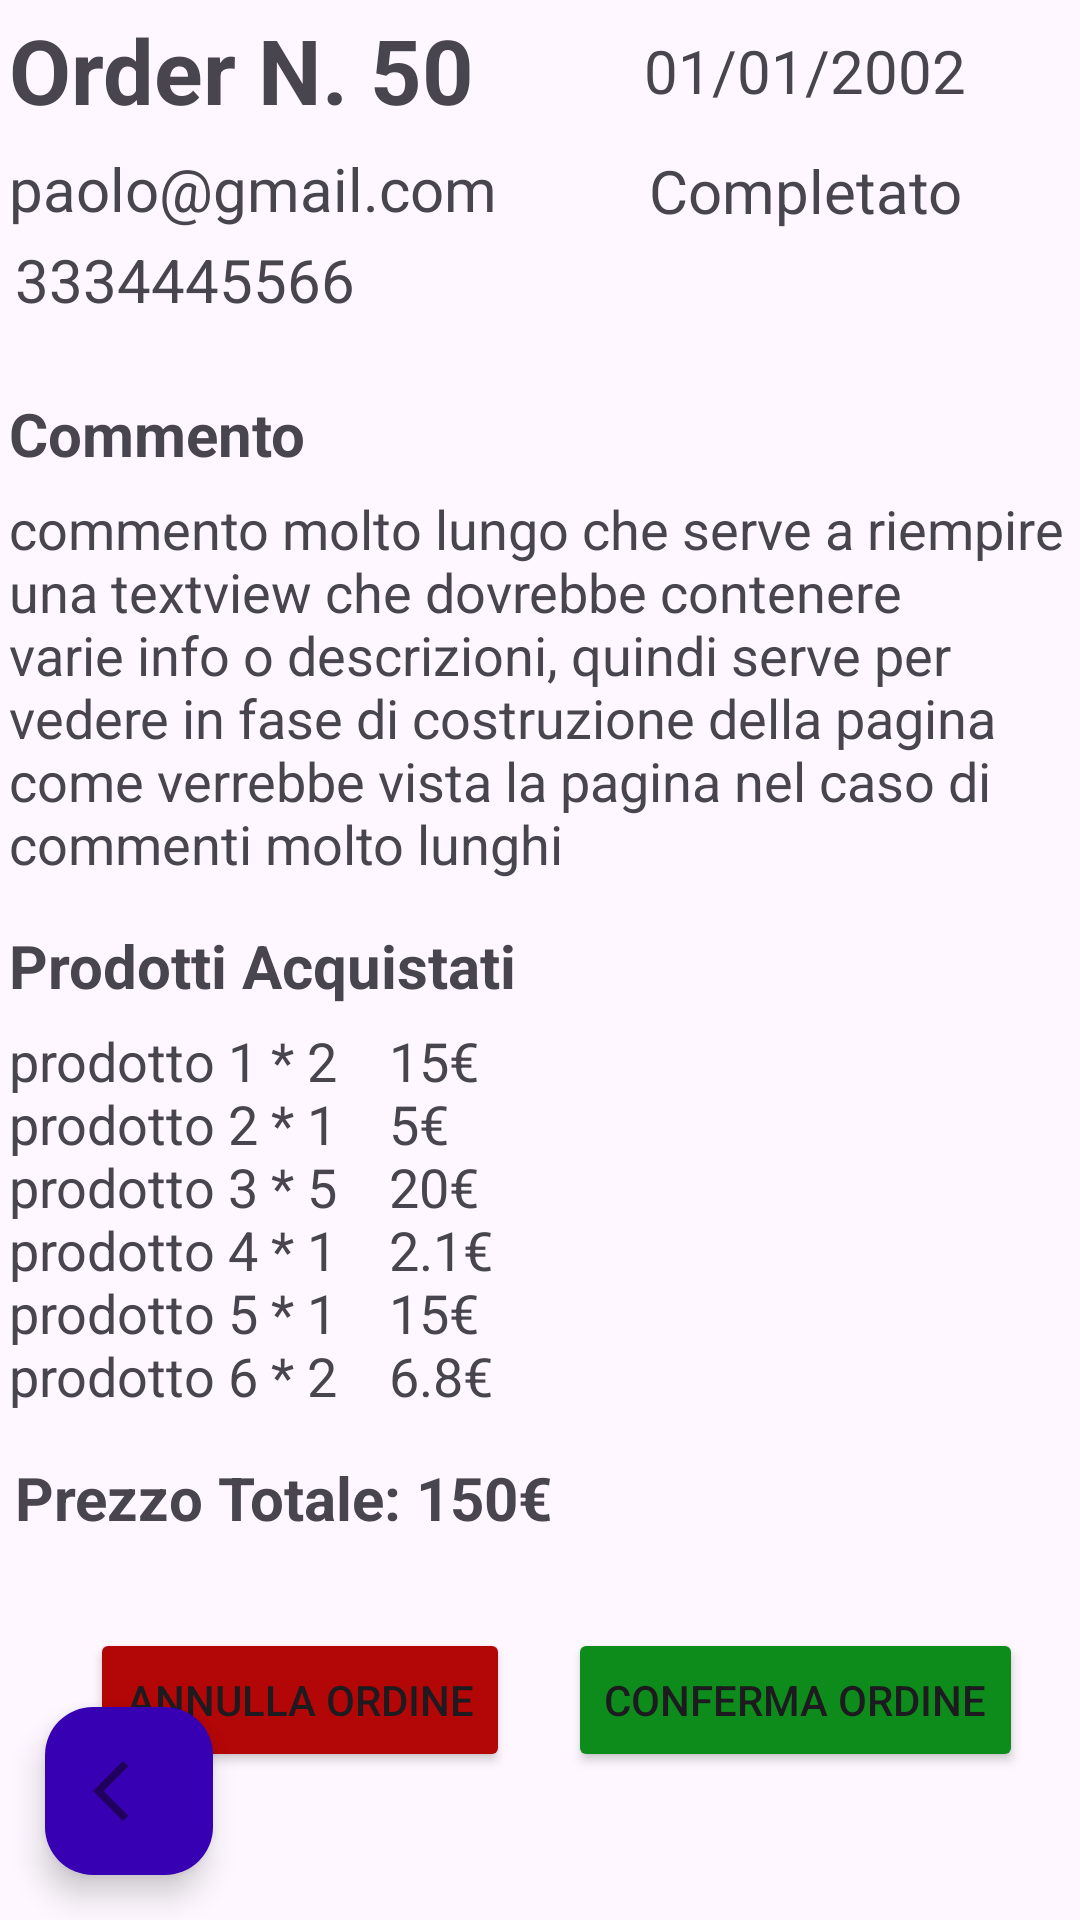

Screen size 1080*1920. Icon name, then its center in pixels as point (x, y):
Button indietro: point (129, 1791)
